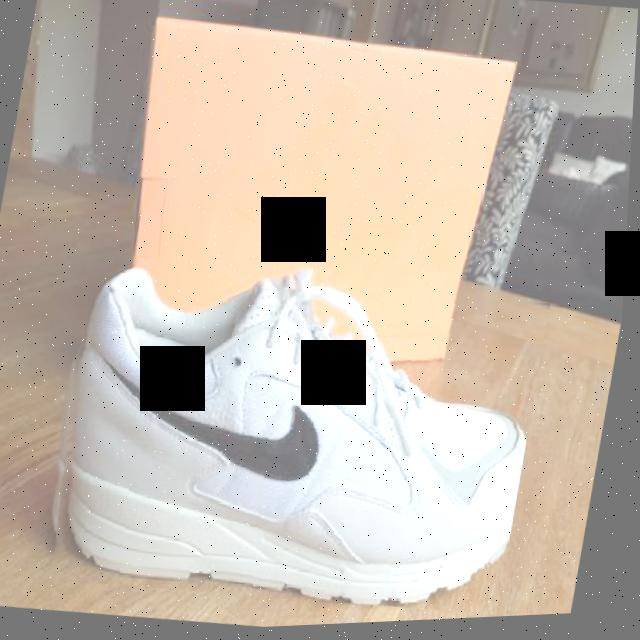shoe: (35, 248, 556, 635)
